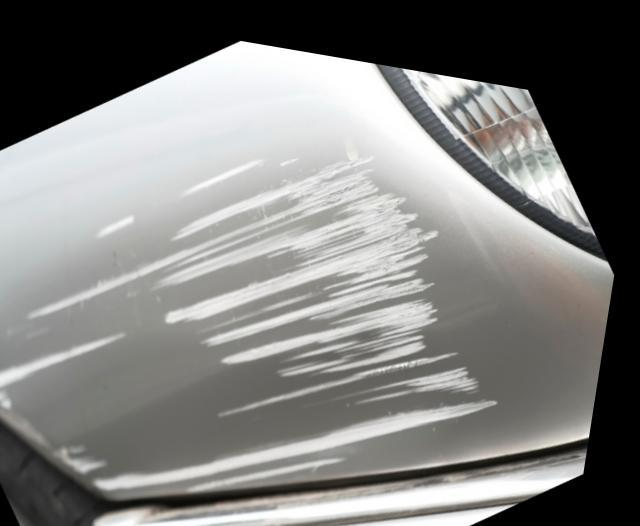scratch: (0, 124, 508, 486)
